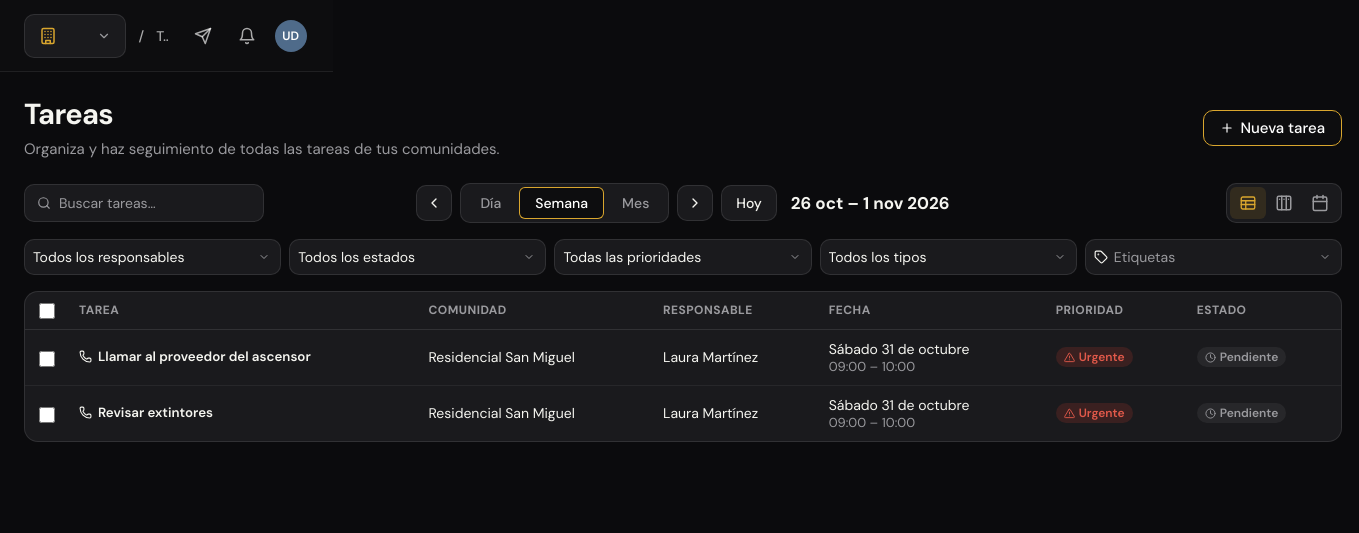
Test: TasksComponent › forma de ver las tareas (tabla, kanban, calendario) › selección múltiple › marcar filas muestra la barra y "seleccionar todas" marca todas
This screenshot has width=1359, height=533.
Click the 2nd checkbox with class "select-box" at [47, 359], box left=39, top=351, right=55, bottom=367
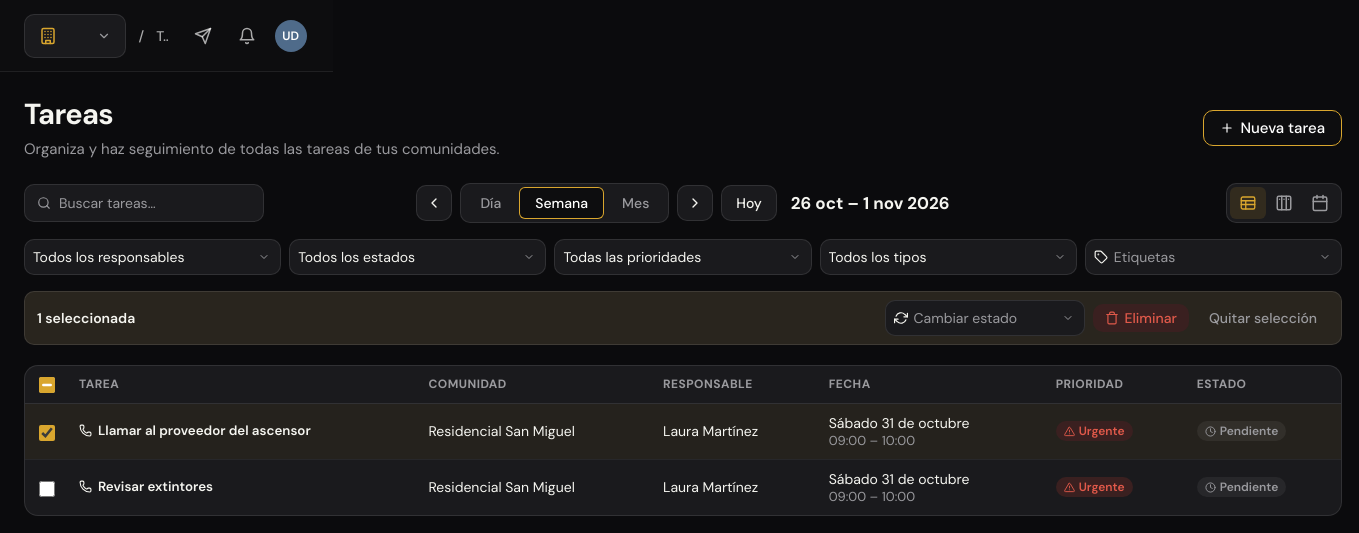
Check: the text with class "bulk__count" reads "1 seleccionada", box left=37, top=309, right=135, bottom=327
Click the 1st checkbox with class "select-box" at [47, 385], box left=39, top=377, right=55, bottom=393
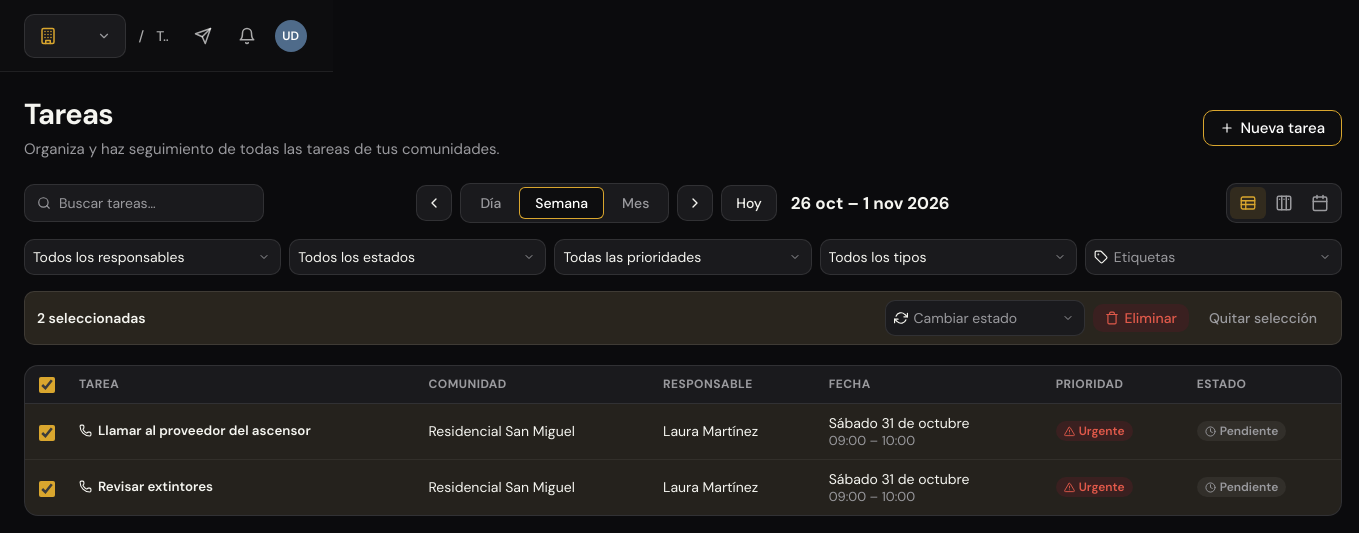
Check: the text with class "bulk__count" reads "2 seleccionadas", box left=37, top=309, right=146, bottom=327
